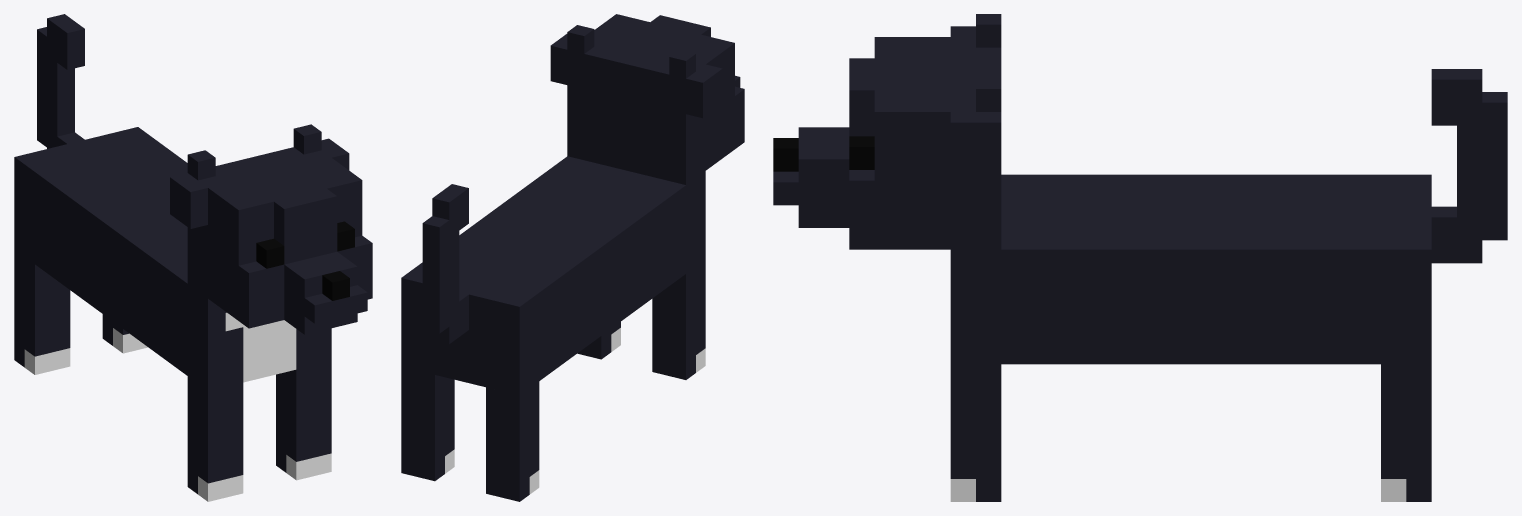
File: ArthurDog.fbx
The picture shows the model from 3 angles, left to right: view 1: azimuth 30°, elevation 25°; view 2: azimuth 150°, elevation 25°; view 3: azimuth 270°, elevation 25°; orthographic projection. The views are drawn at different scales.
Visible parts, largest first — view 1: Arthur Dog-4, Arthur Dog-1, Arthur Dog-3, Arthur Dog-0, Arthur Dog-2; view 2: Arthur Dog-4, Arthur Dog-1, Arthur Dog-0, Arthur Dog-2, Arthur Dog-3; view 3: Arthur Dog-4, Arthur Dog-1, Arthur Dog-2, Arthur Dog-3, Arthur Dog-0.
Part boxes in pixels (x1,y1,x2,y2): Arthur Dog-4: (14, 127, 331, 390); Arthur Dog-1: (170, 124, 372, 334); Arthur Dog-3: (187, 361, 331, 501); Arthur Dog-0: (14, 249, 147, 374); Arthur Dog-2: (37, 14, 84, 148); Arthur Dog-4: (401, 156, 705, 395); Arthur Dog-1: (550, 14, 744, 184); Arthur Dog-0: (401, 366, 539, 501); Arthur Dog-2: (422, 184, 468, 344); Arthur Dog-3: (577, 260, 705, 379); Arthur Dog-4: (950, 174, 1431, 364); Arthur Dog-1: (773, 14, 1001, 249); Arthur Dog-2: (1431, 69, 1507, 263); Arthur Dog-3: (950, 364, 1001, 501); Arthur Dog-0: (1381, 364, 1431, 501).
Size of the model in its own units: 45.03 by 90.05 by 145.
5 materials, 5 textured.
